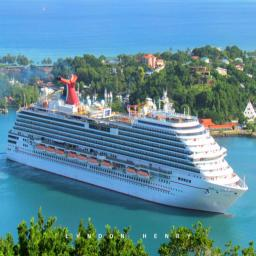cruises: (7, 72, 252, 221)
